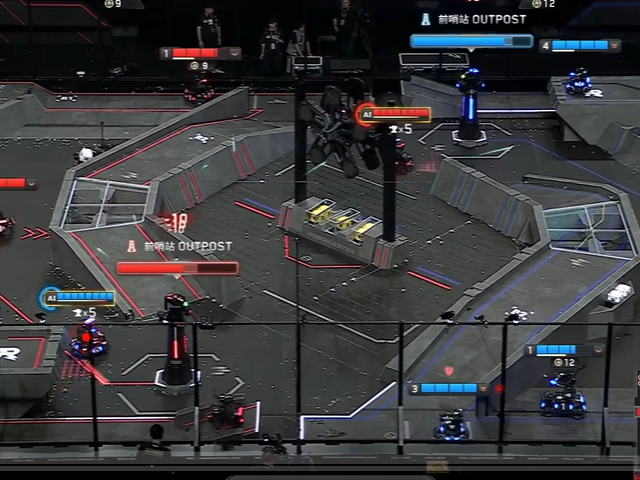rm: (534, 365, 588, 421), (66, 314, 111, 361), (204, 390, 249, 435), (431, 408, 473, 445), (180, 71, 217, 109), (565, 67, 597, 99), (393, 138, 418, 178)
